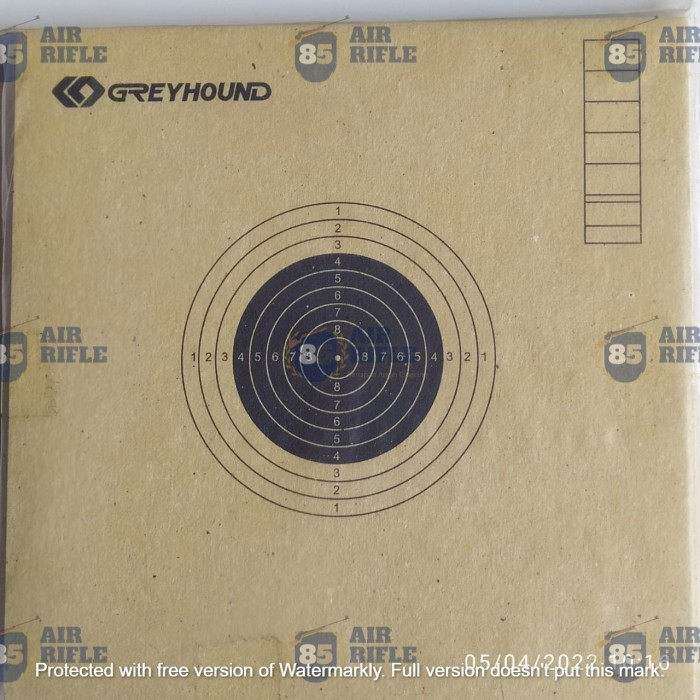target: (173, 173, 515, 528)
